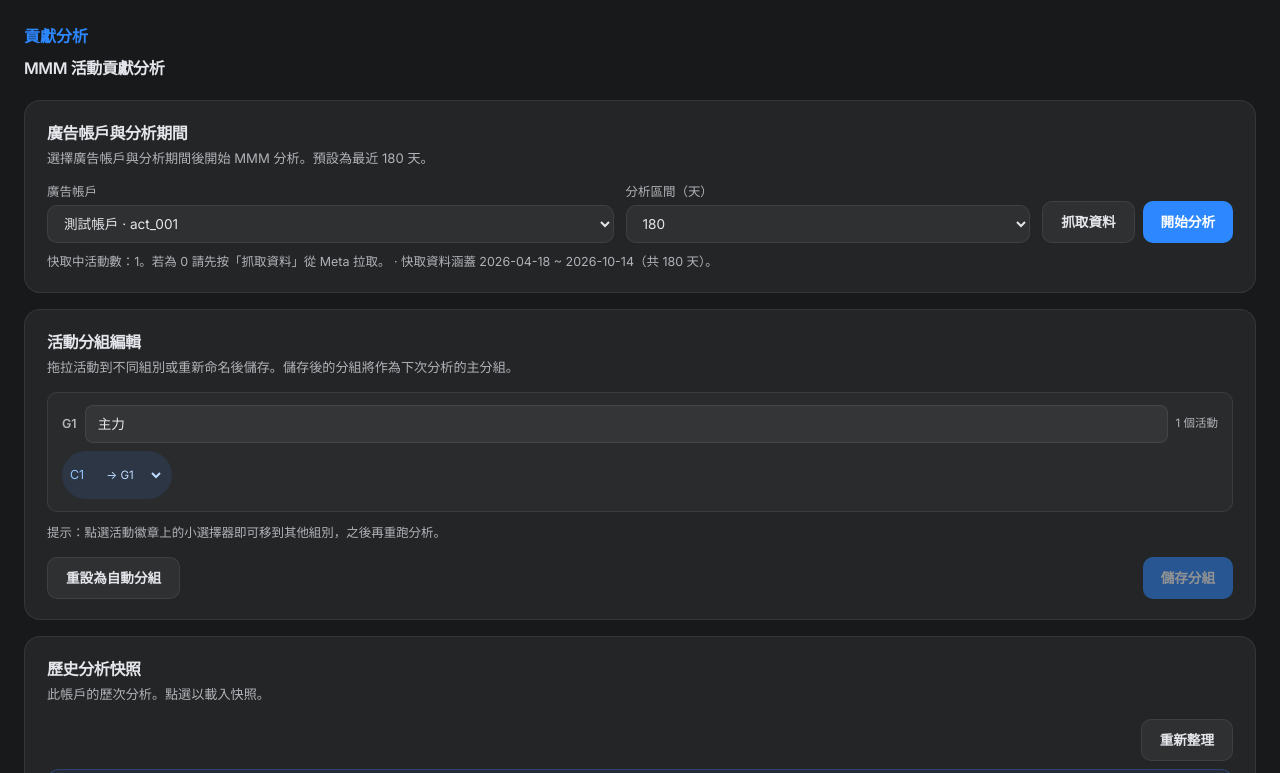
ContributionAnalysis › adds a 365-day period option and shows a coverage hint without blocking submission when it predates cached data (docs/27 任務 6.1)
The image size is (1280, 773).
Expected: the text "· 快取資料涵蓋 2026-04-18 ~ 2026-10-14（共 180 天）。" is shown, [390,254,718,269]
Select "365" in the dropdown labelled "分析區間（天）" at x=828, y=224, box [626,205,1030,243]
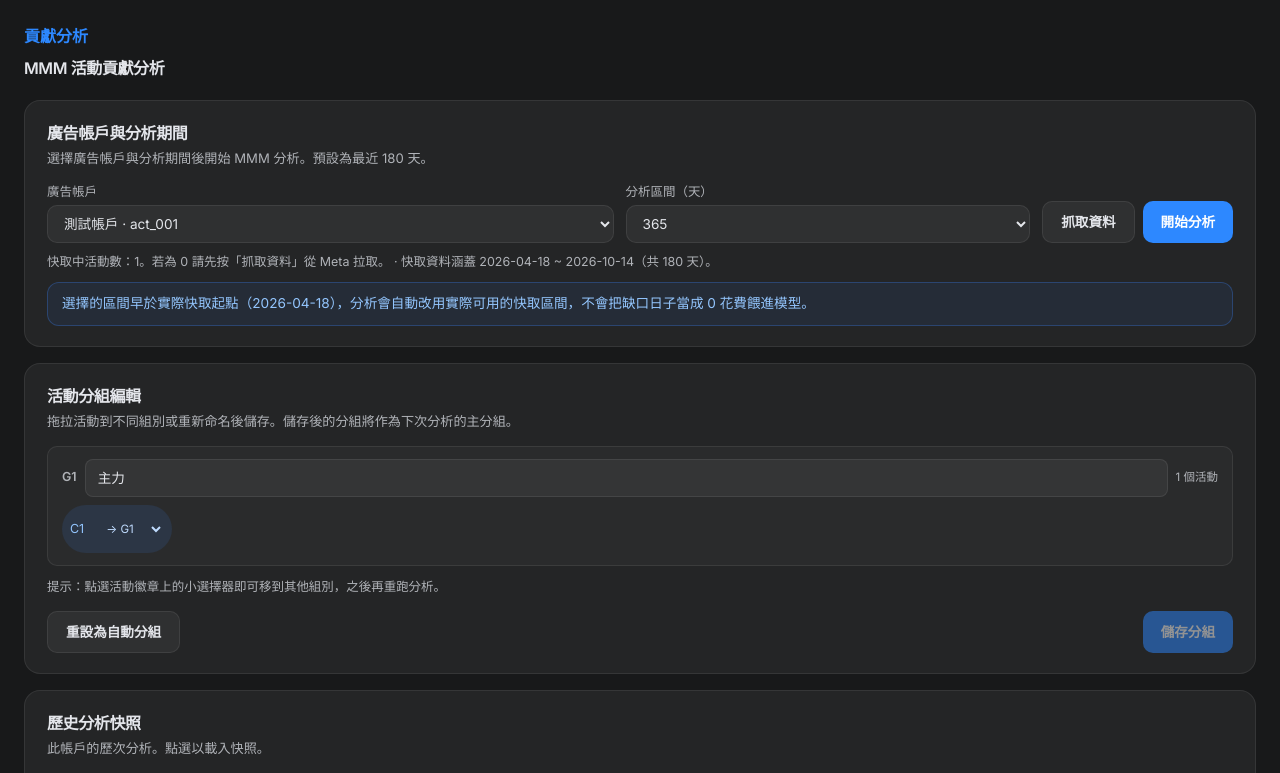
Expected: the button "開始分析" is enabled, [1143,201,1233,243]
Now the text "選擇的區間早於實際快取起點" is shown, box [62,295,815,311]
